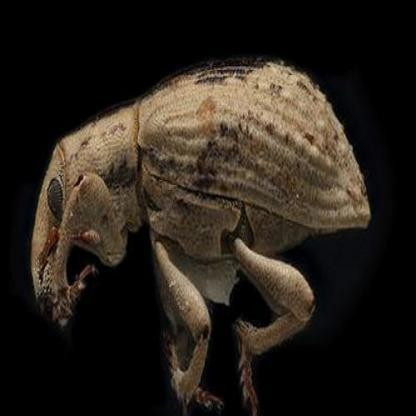rice-bug: (32, 58, 372, 382)
